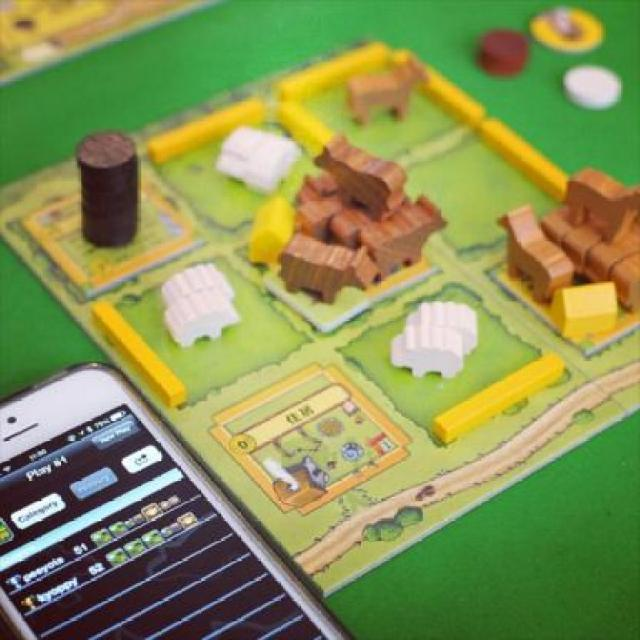phone: (0, 359, 355, 638)
